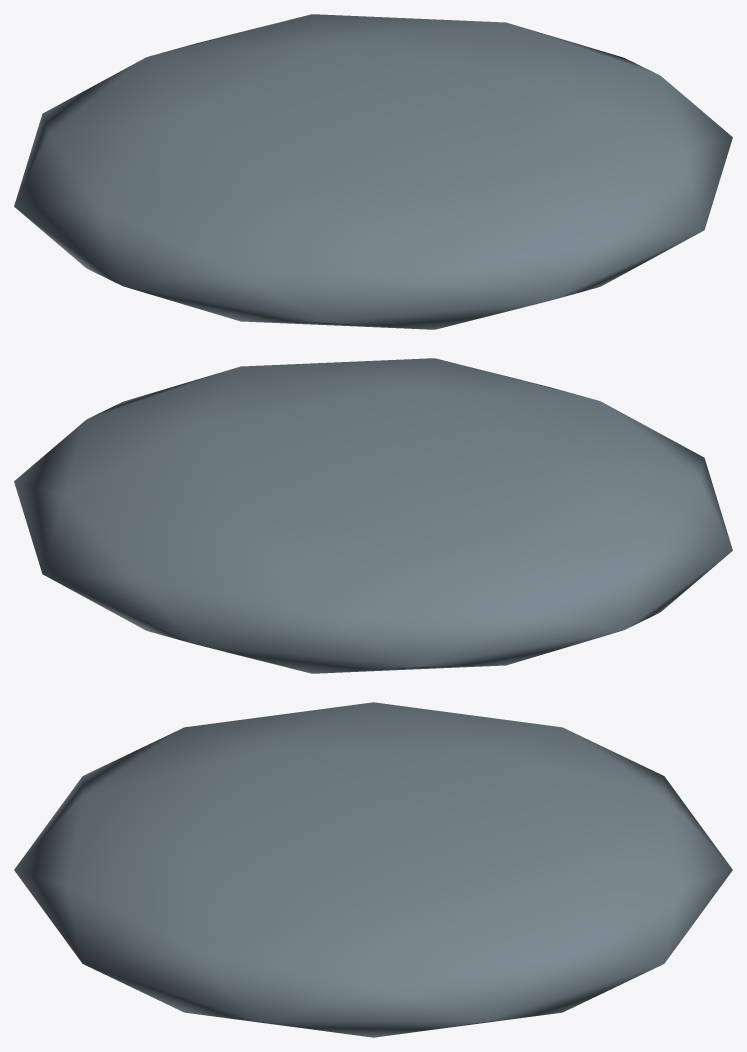
File: characterballMesh.glb
3 views of the same model, one above another, from view 1: azimuth 30°, elevation 25°; view 2: azimuth 150°, elevation 25°; view 3: azimuth 270°, elevation 25° (orthographic). The views are drawn at different scales.
Visible parts, largest first — view 1: Icosphere; view 2: Icosphere; view 3: Icosphere.
Boxes of the visible parts, x1,y1,x2,y2 form: Icosphere: (14,14,732,329); Icosphere: (14,358,732,673); Icosphere: (14,702,732,1037).
Size of the model in its own units: 7 by 1.3 by 7.
